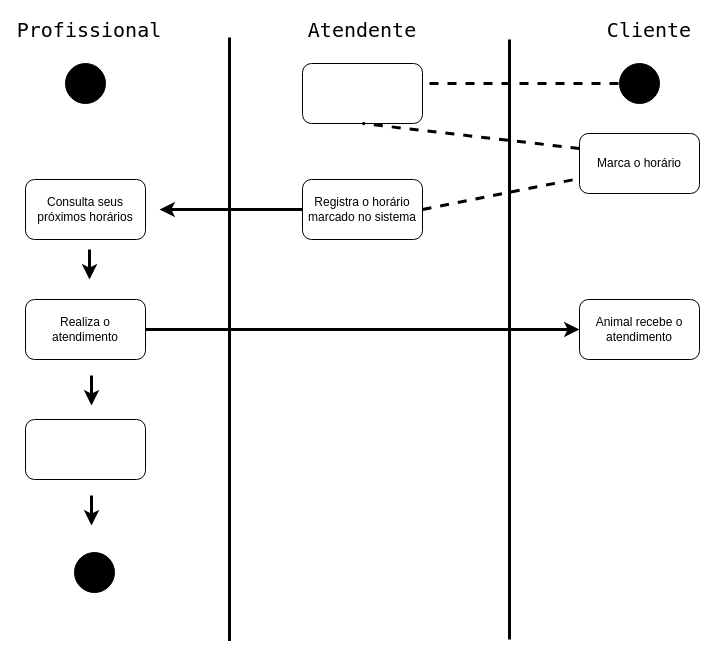
The diagram is 717 pixels wide and 660 high, and some of its shapes have lost their labels. The box of each missing label's shape, as (x1, y1, x2, y2) in pixels:
Consulta horários disponíveis: (302, 62, 422, 124)
Marca agendamento como realizado: (24, 418, 146, 480)
